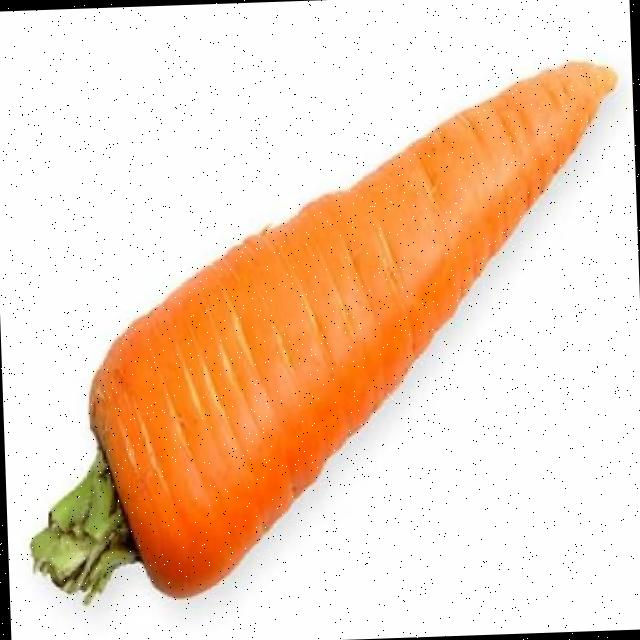carrot: (91, 62, 615, 596)
